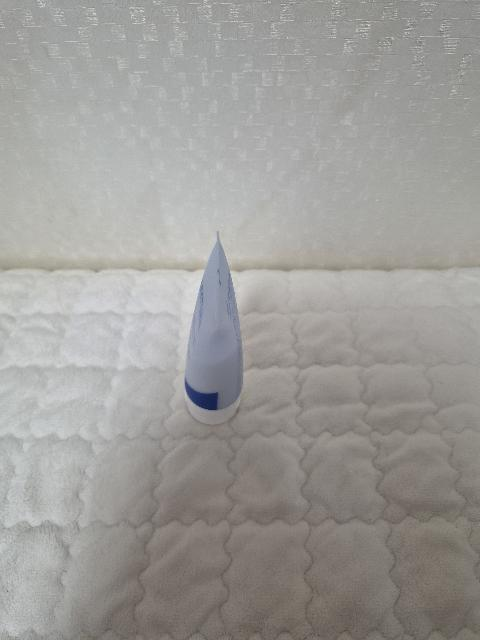handcream: (184, 230, 244, 425)
